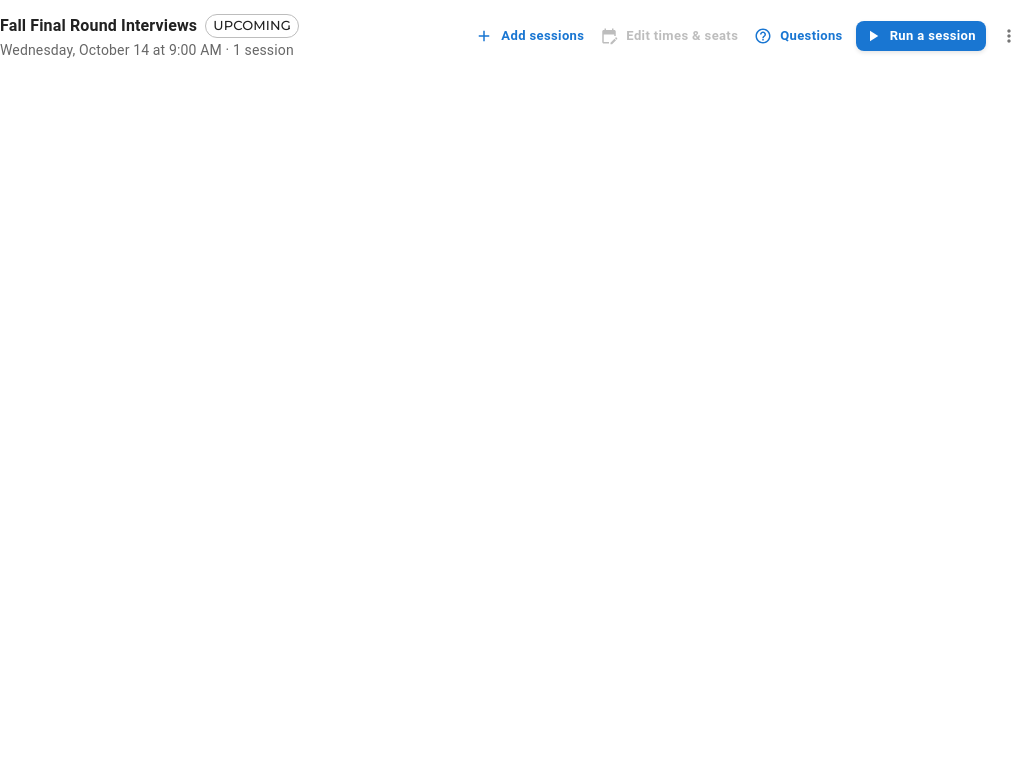
Test: Run a session behind the round tutorial gate › asks the final round's gate for a final round
Step 1. Click the button "Run a session" → (921, 36), box [856,21,986,51]
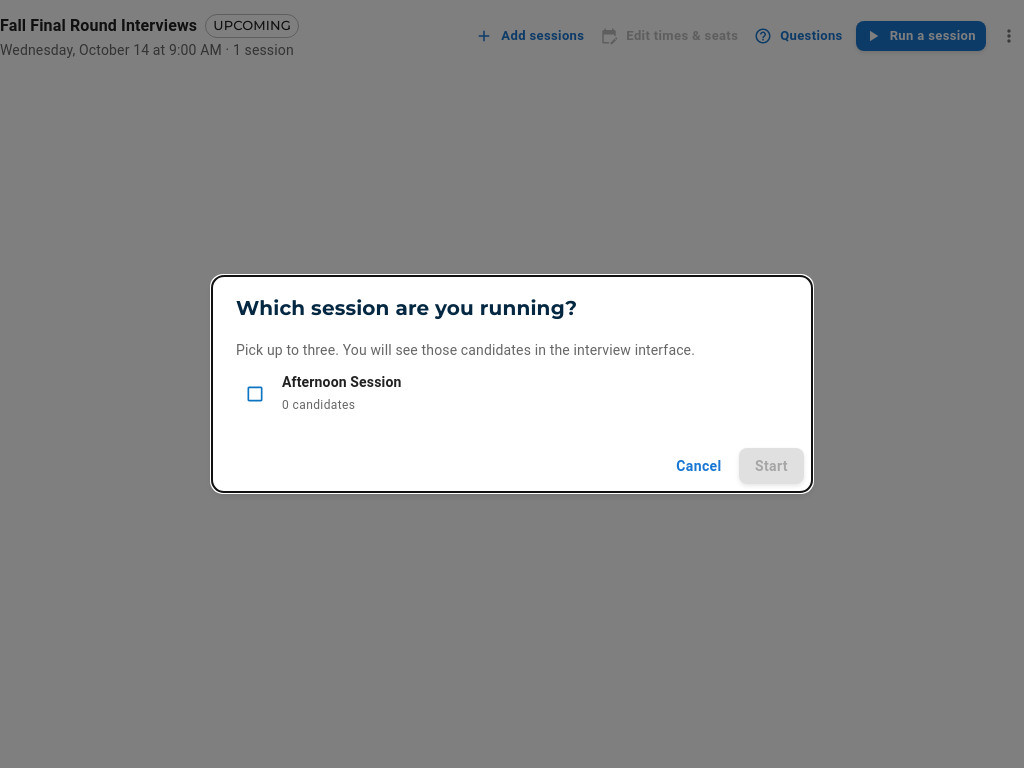
Expected: the heading "Which session are you running?" is shown, [236,296,577,320]
